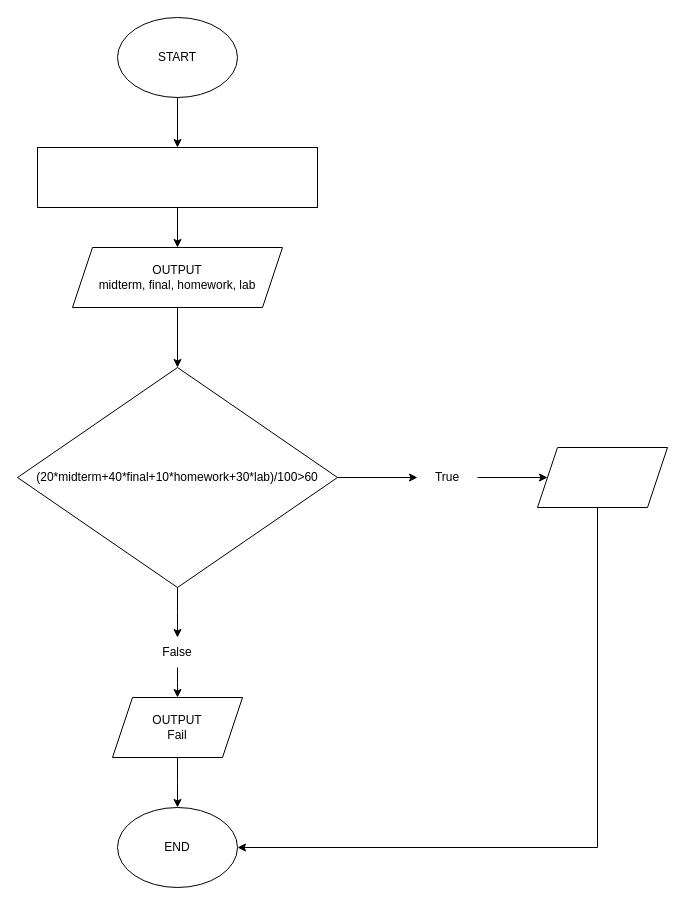
This 685x905 diagram has some shape labels left out. Here are the shapes that lost their labels. From the top down, the box of each, then its label:
(36, 146, 318, 208): midterm, final, homework
(536, 446, 668, 508): OUTPUT Pass
